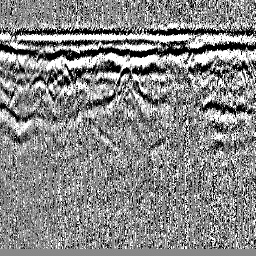cavity: (107, 60, 147, 99)
